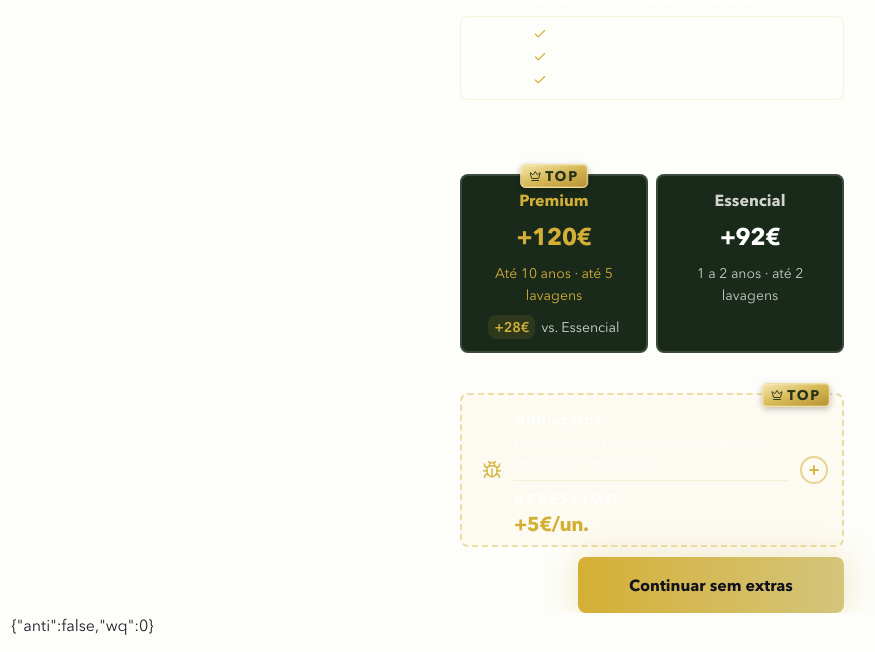
Test: care upsells › makes chair anti-acaros and waterproofing mutually exclusive
Click the button "Anti-ácaros". click: (652, 470)
box: [460, 393, 844, 546]
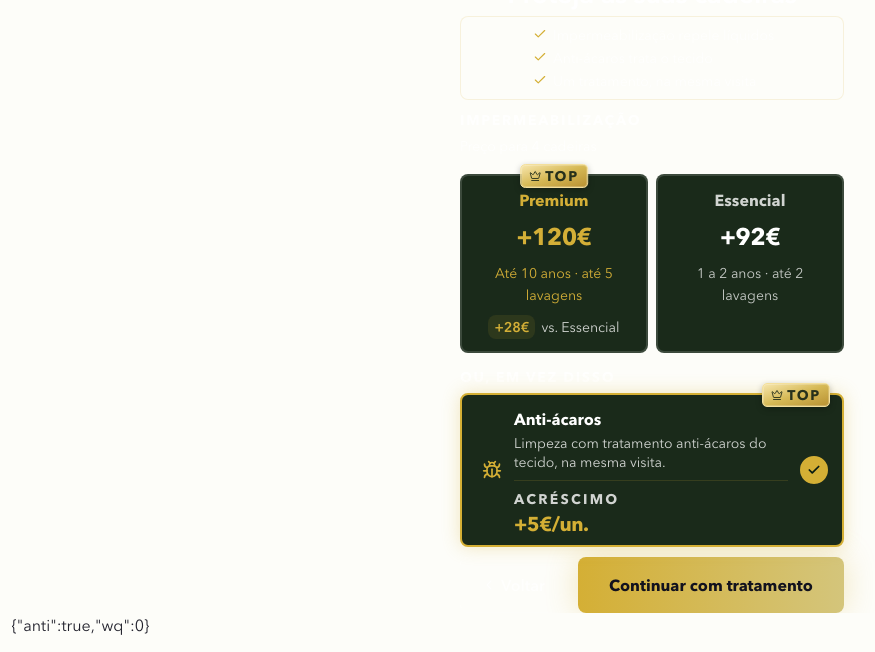
Expected: the text named "state" reads "{\"anti\":true,\"wq\":0}", [12, 612, 149, 636]
Click the button "Essencial +92€ 1 a 2 anos · até 2 lavagens". click: (750, 263)
box: [656, 174, 844, 353]
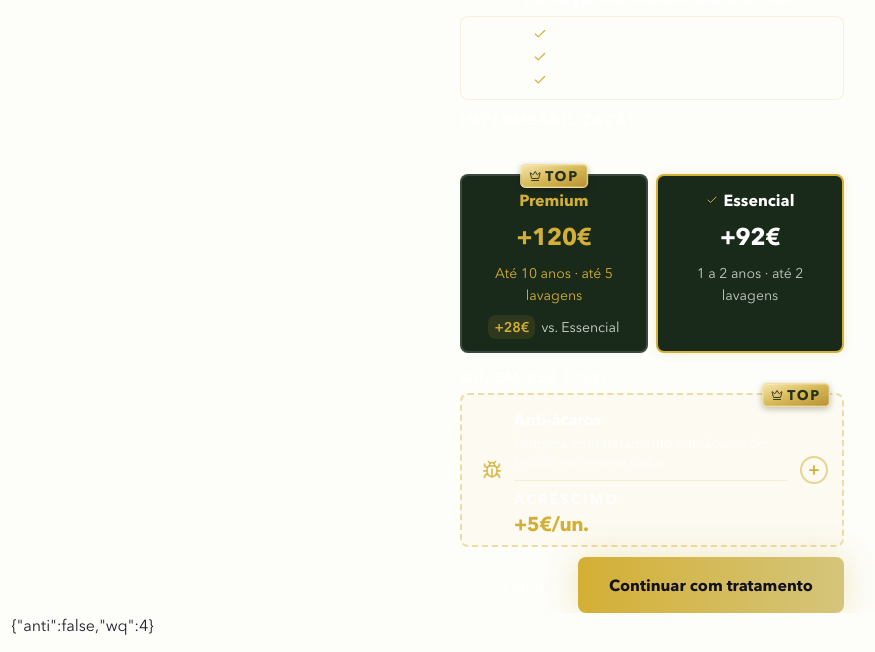
Expected: the text named "state" reads "{\"anti\":false,\"wq\":4}", [12, 612, 153, 636]
Click the button "Anti-ácaros". click: (652, 470)
box: [460, 393, 844, 546]
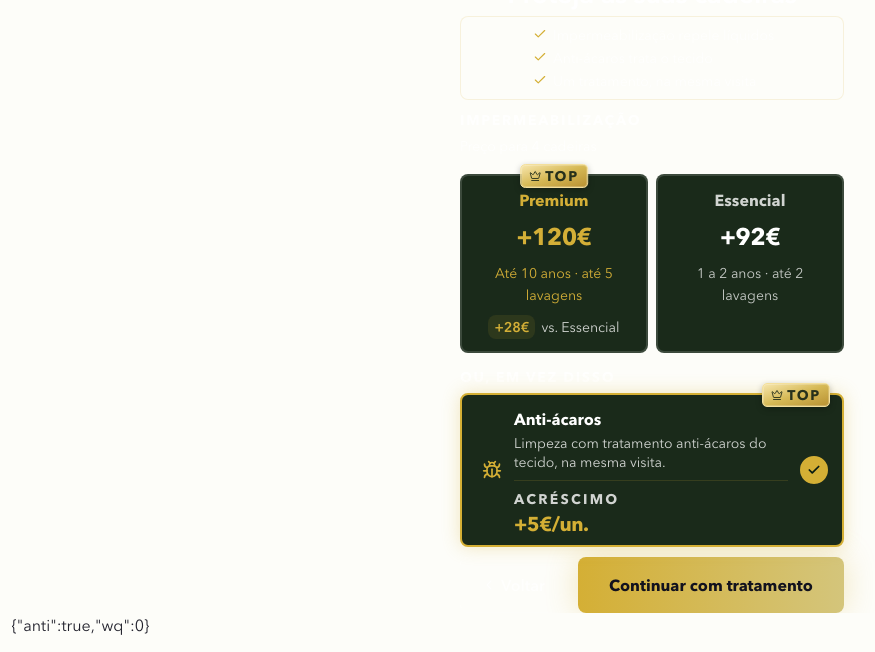
Expected: the text named "state" reads "{\"anti\":true,\"wq\":0}", [12, 612, 149, 636]
